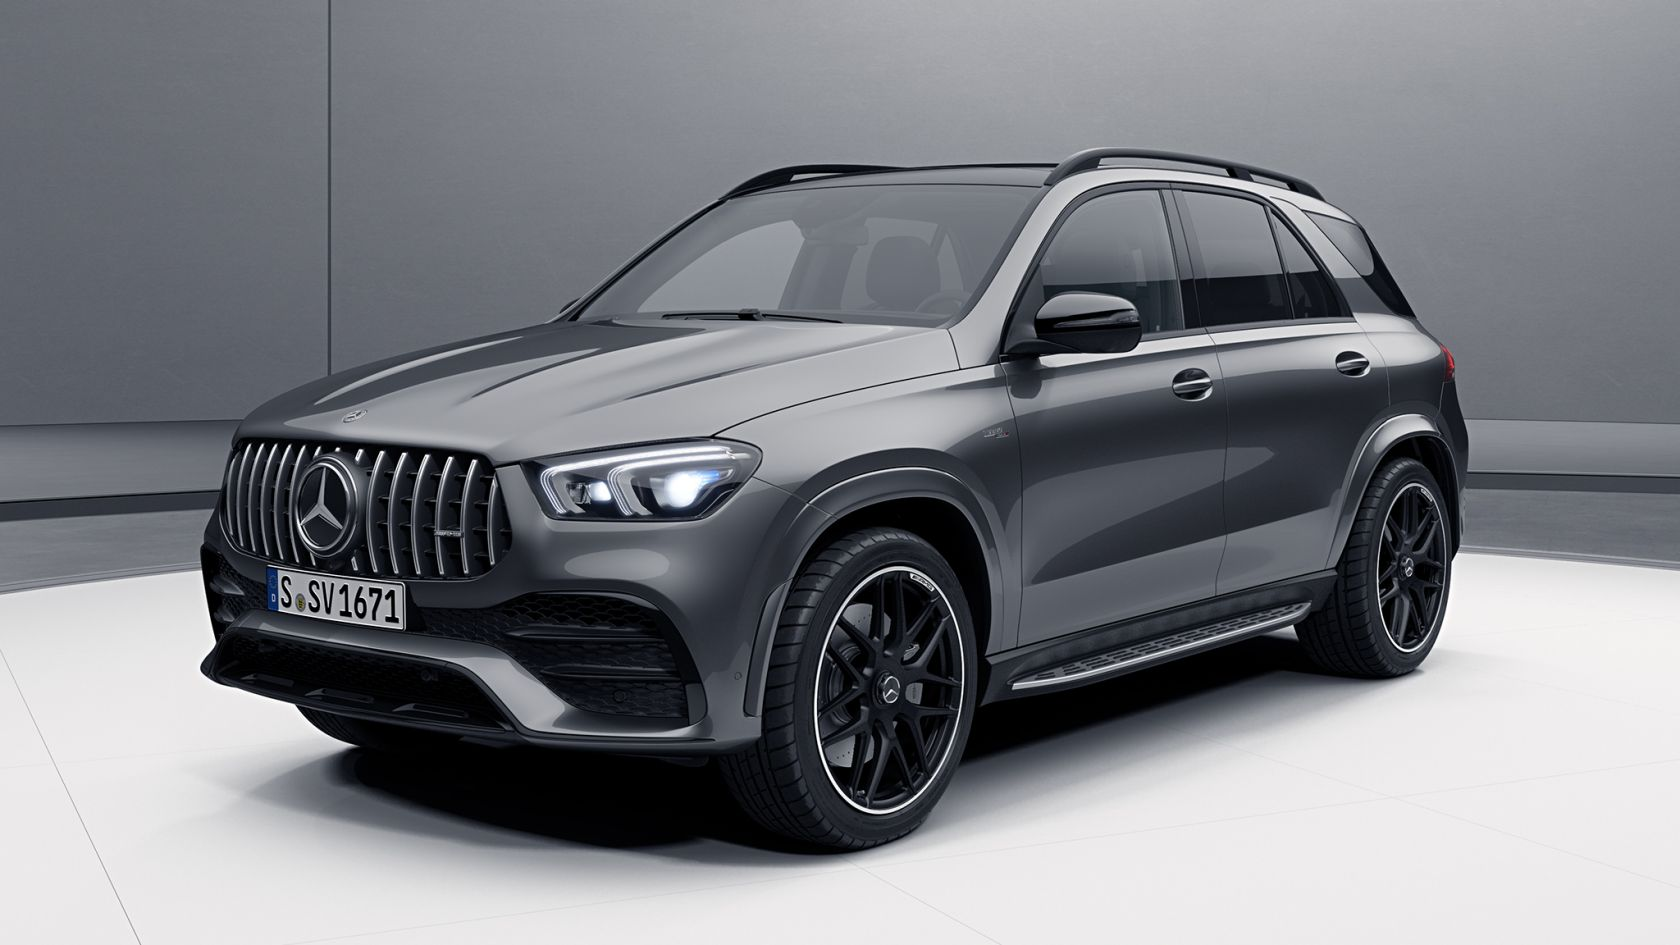car: (197, 147, 1471, 855)
